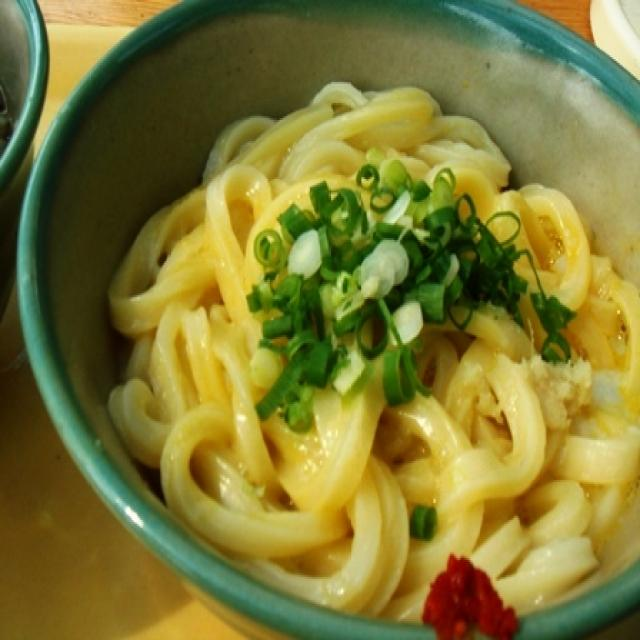面条主食: (63, 45, 640, 640)
